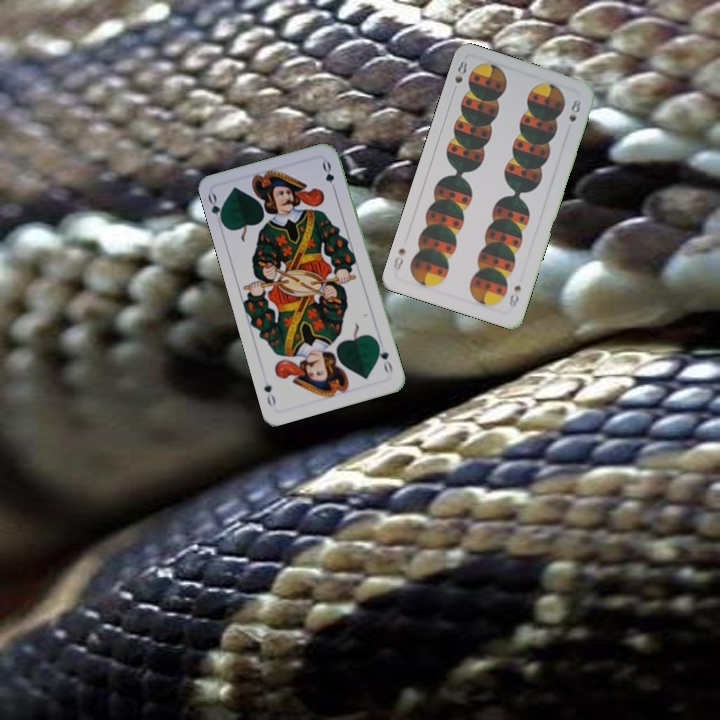GO: (204, 189, 227, 229), (373, 338, 395, 376)
S8: (448, 56, 470, 96), (505, 281, 524, 310)
